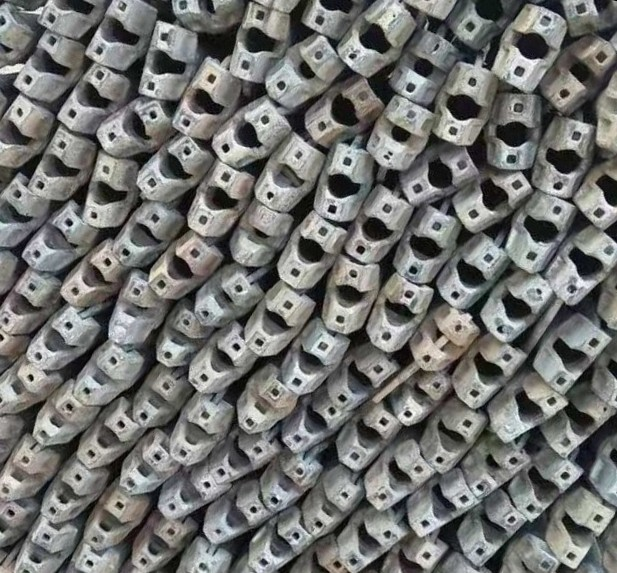THsquare_steel: (496, 1, 567, 93), (535, 313, 613, 394), (262, 37, 346, 107), (274, 213, 347, 293), (173, 56, 242, 140), (545, 32, 615, 114), (22, 198, 100, 271), (304, 75, 383, 146), (346, 185, 414, 267), (255, 136, 326, 214), (341, 3, 419, 74), (211, 98, 291, 167), (389, 26, 458, 106), (548, 225, 617, 303), (395, 205, 461, 286), (83, 1, 157, 73), (506, 195, 571, 276), (184, 161, 253, 237), (147, 234, 225, 301), (371, 93, 437, 172), (133, 138, 214, 202), (21, 308, 103, 371), (368, 273, 433, 352), (434, 62, 494, 147), (398, 147, 482, 207), (9, 33, 83, 101), (226, 2, 287, 84), (110, 204, 188, 268), (484, 270, 554, 341), (82, 148, 137, 236), (439, 239, 509, 308), (551, 493, 617, 566), (247, 281, 312, 355), (452, 172, 536, 229), (457, 493, 523, 565), (449, 341, 522, 406), (535, 117, 593, 198), (319, 256, 379, 334), (545, 389, 617, 454), (102, 270, 165, 344), (510, 457, 584, 520), (140, 21, 199, 100), (33, 125, 94, 201), (283, 322, 346, 394), (489, 88, 543, 172), (315, 141, 370, 223), (62, 240, 129, 307), (188, 325, 255, 392), (486, 384, 566, 440), (73, 345, 144, 408), (94, 101, 176, 155), (82, 487, 151, 550), (327, 352, 399, 409), (39, 459, 104, 522), (113, 435, 175, 500), (360, 454, 432, 509), (77, 409, 142, 469), (425, 406, 485, 470), (1, 269, 57, 336), (172, 397, 227, 465), (330, 522, 412, 567), (1, 94, 48, 172), (337, 409, 399, 468), (154, 304, 211, 368), (299, 480, 365, 535), (35, 387, 95, 446), (278, 401, 350, 450), (1, 173, 48, 248), (448, 1, 518, 51), (258, 458, 323, 511), (239, 376, 296, 436), (245, 520, 309, 573), (129, 369, 186, 428), (208, 436, 279, 483), (1, 438, 50, 506), (407, 486, 476, 534), (198, 501, 274, 544), (157, 472, 228, 518), (194, 274, 259, 324), (129, 516, 187, 572), (394, 371, 453, 426), (462, 445, 527, 493), (15, 522, 69, 573), (1, 368, 60, 414), (377, 538, 450, 573), (34, 1, 104, 37), (299, 1, 362, 36), (169, 1, 245, 25), (287, 546, 346, 573), (1, 502, 31, 551)
THsquare_steel_blocked: (412, 314, 477, 369)
